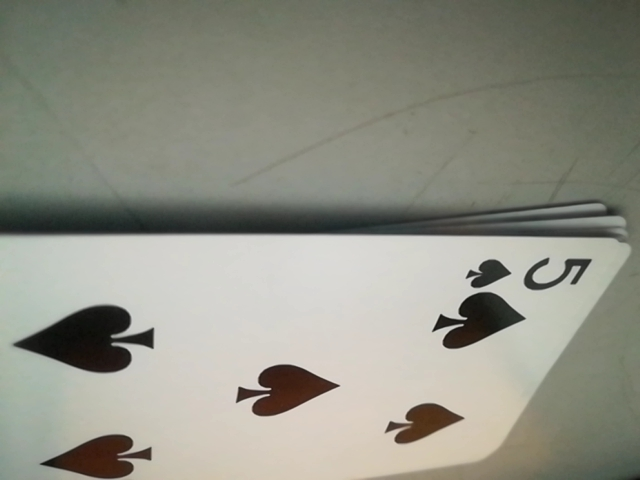ht 5: (455, 245, 605, 291)
